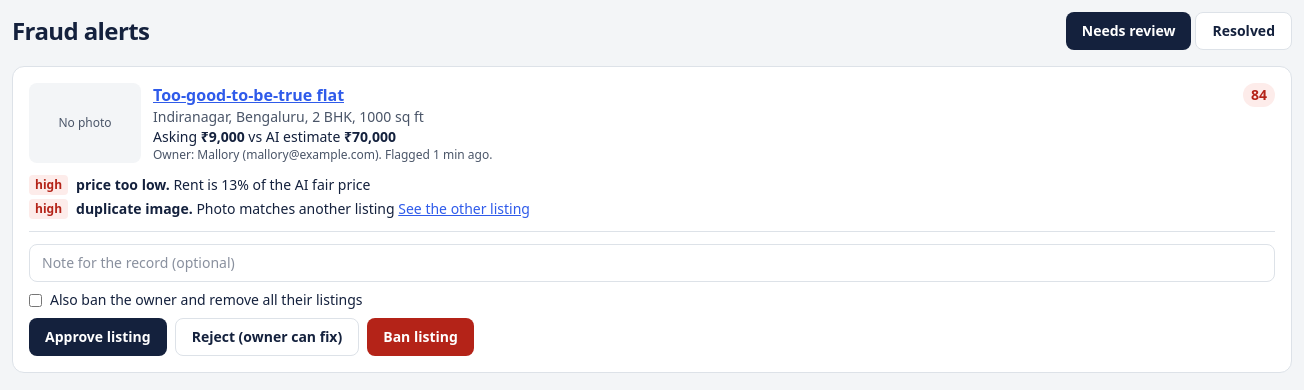
fraud alert queue › "also ban the owner" disables approve/reject so a ban cannot be half-applied
expect the link "Too-good-to-be-true flat" is shown: met, box top-left (153, 83), bottom-right (344, 107)
Click the checkbox labelled "Also ban the owner and remove all their listings".
click(36, 300)  # box top-left (29, 294), bottom-right (42, 306)
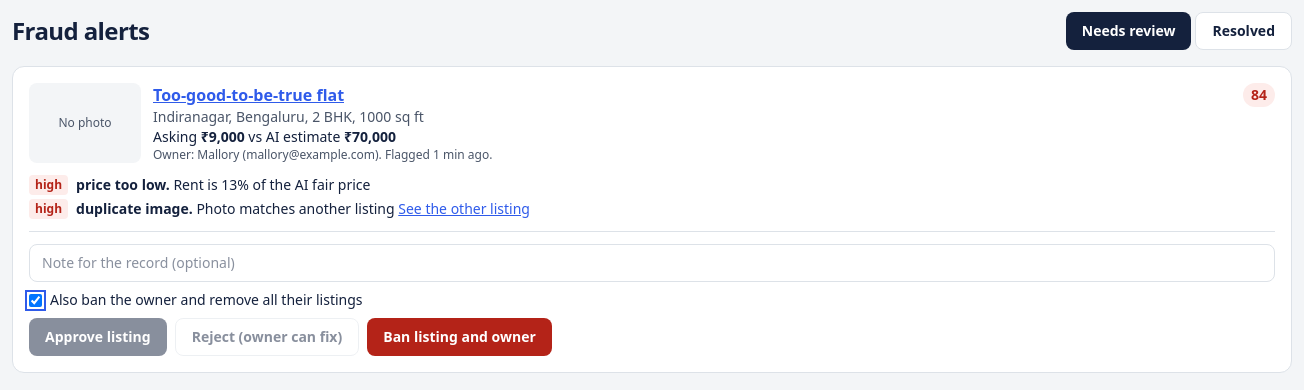
expect the button "Ban listing and owner" is enabled: met, box top-left (367, 318), bottom-right (552, 356)
expect the button "Approve listing" is disabled: met, box top-left (29, 318), bottom-right (167, 356)
expect the button "Reject (owner can fix)" is disabled: met, box top-left (175, 318), bottom-right (359, 356)
